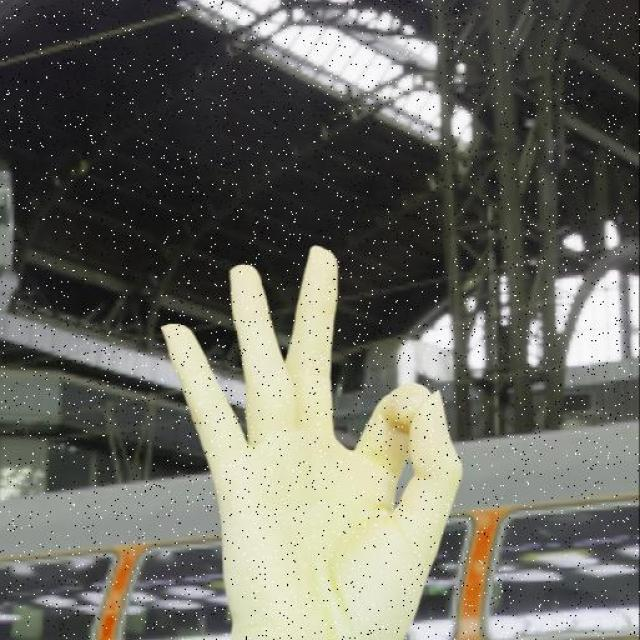F: (158, 242, 468, 640)
